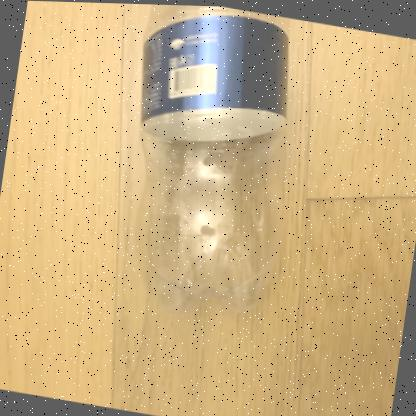Plastic: (140, 4, 288, 311)
